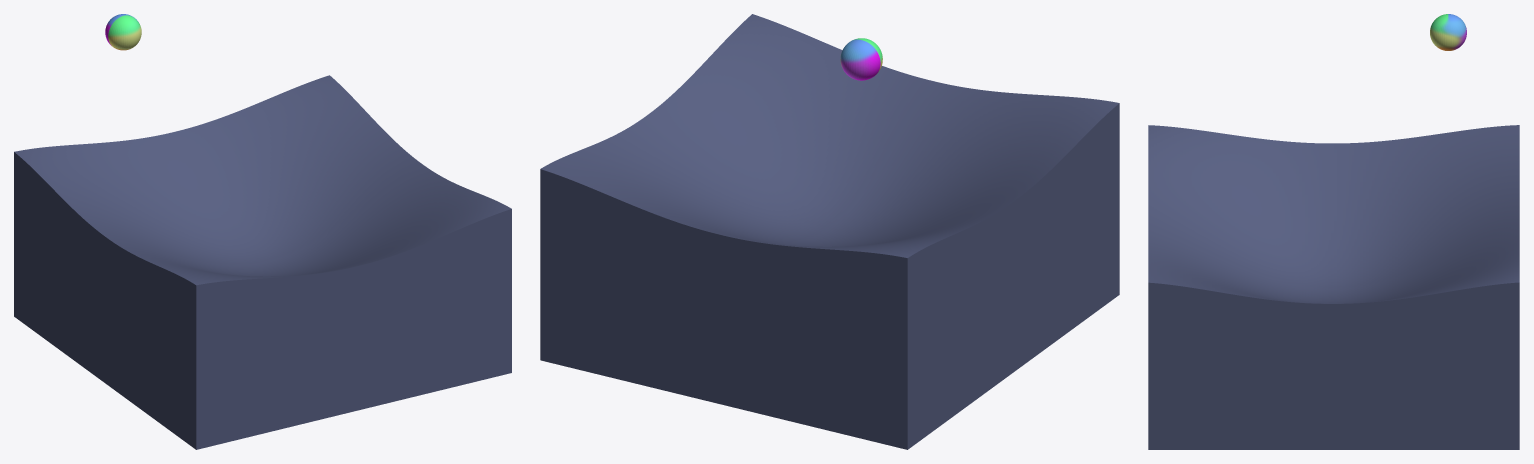
File: rollingball.glb
3 views of the same model, side by side, from view 1: azimuth 30°, elevation 25°; view 2: azimuth 150°, elevation 25°; view 3: azimuth 270°, elevation 25° (orthographic). The views are drawn at different scales.
Visible parts, largest first — view 1: Cube, Sphere; view 2: Cube, Sphere; view 3: Cube, Sphere.
Part boxes in pixels (x1=…): Cube: x1=14, y1=75, x2=511, y2=449; Sphere: x1=105, y1=14, x2=141, y2=50; Cube: x1=540, y1=14, x2=1119, y2=449; Sphere: x1=840, y1=38, x2=882, y2=80; Cube: x1=1148, y1=125, x2=1519, y2=449; Sphere: x1=1430, y1=14, x2=1466, y2=50.
Bounding box in the file's own units: 2 × 1.87 × 2.
2 materials, 1 textured.
